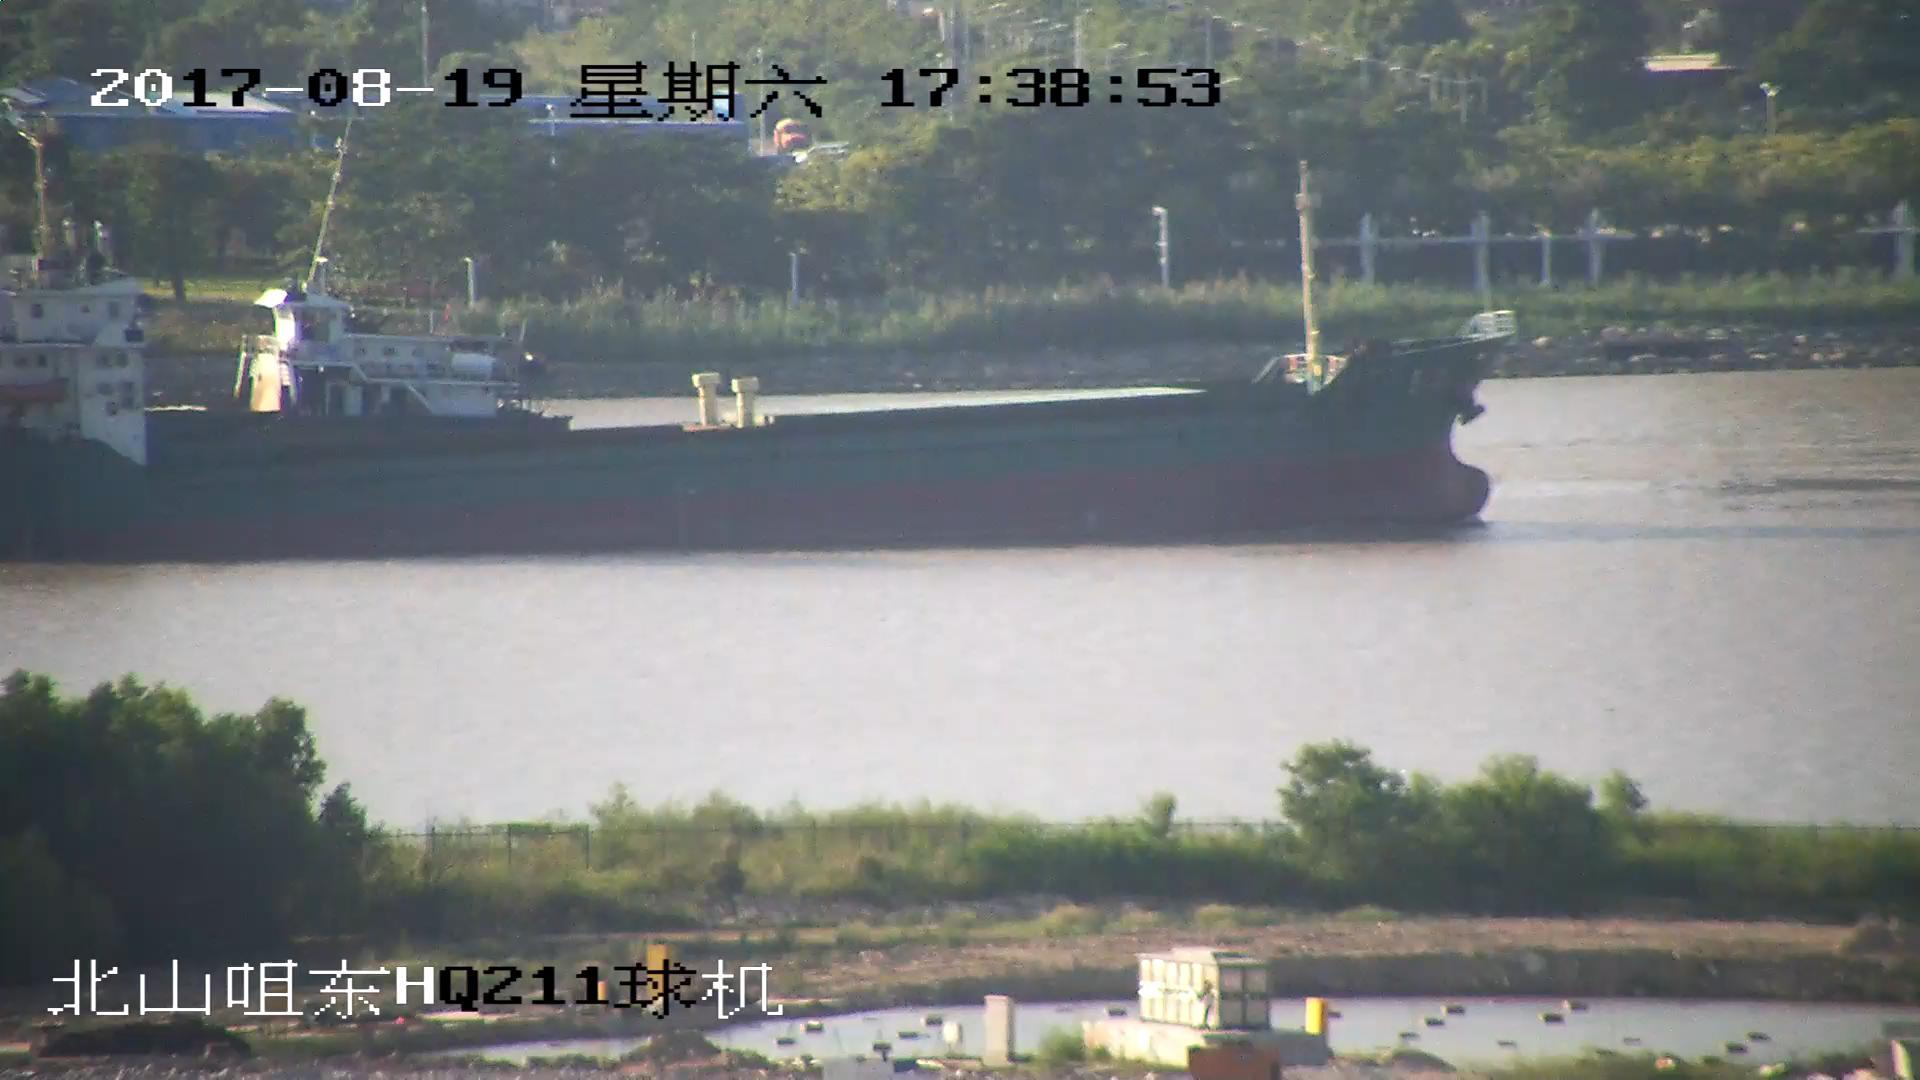Ship: (3, 303, 1534, 538)
